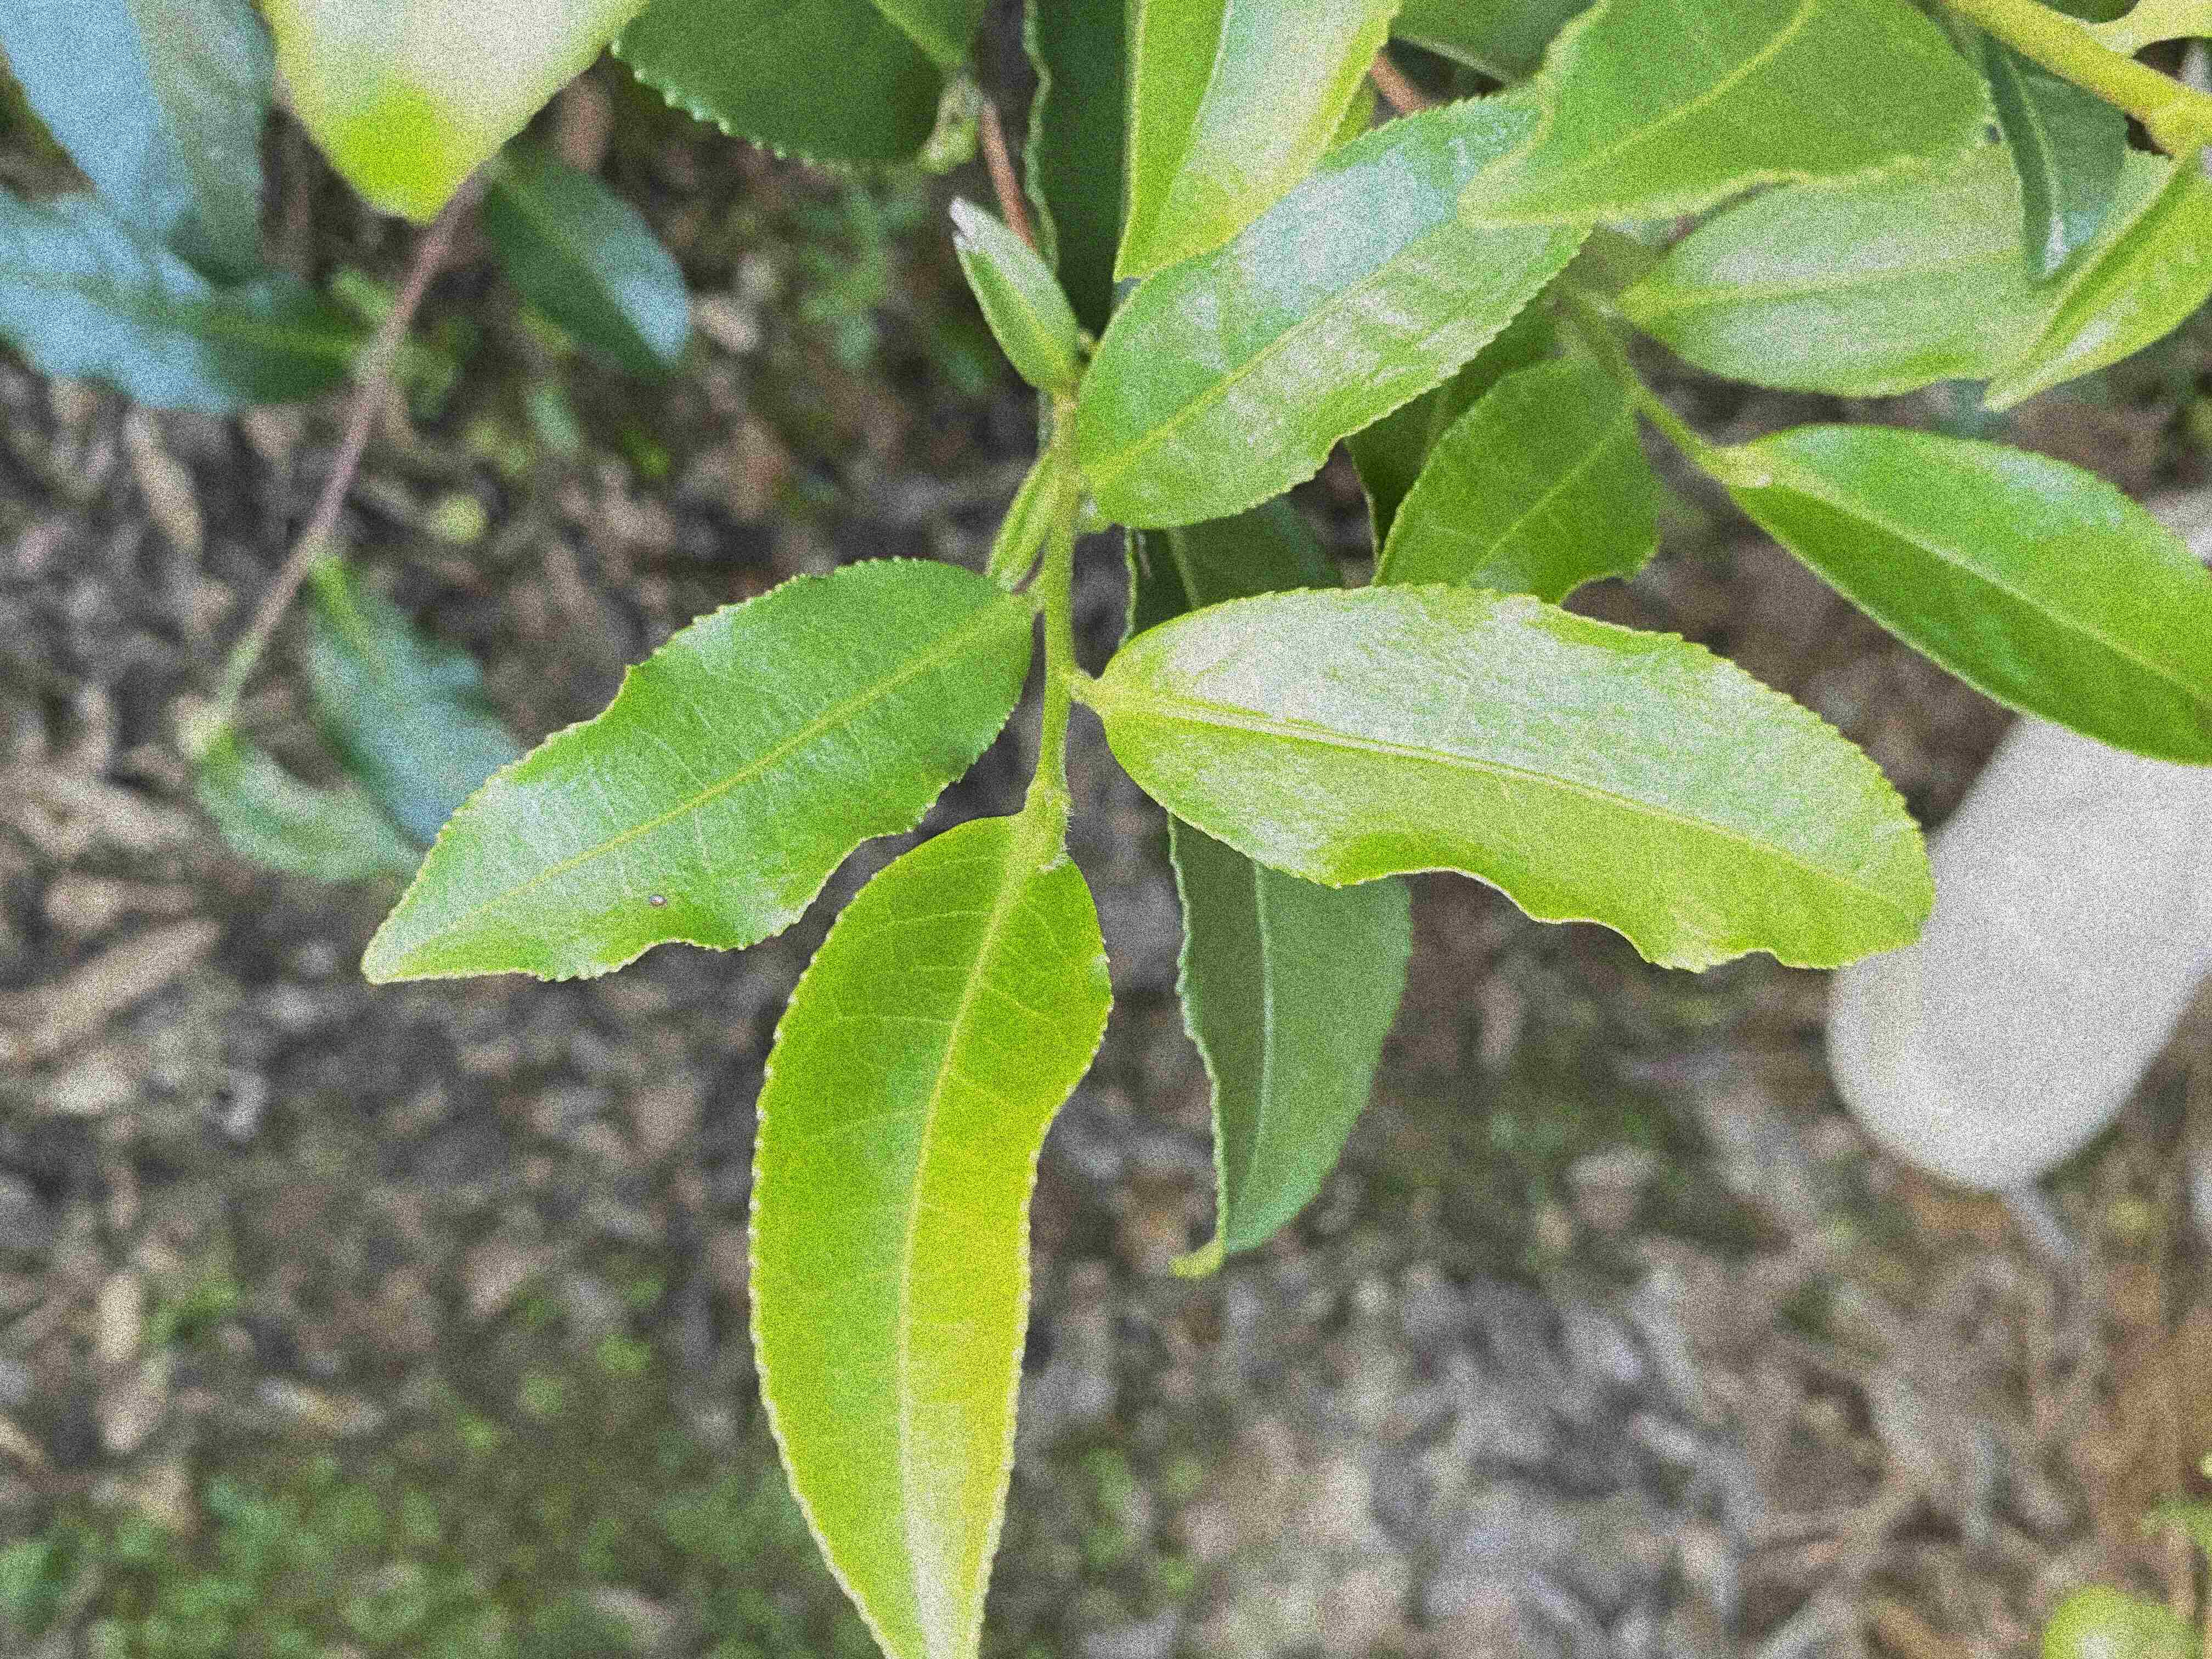healthy: (1097, 579, 1939, 978), (745, 810, 1118, 1657), (1071, 87, 1592, 532), (1726, 420, 2212, 772), (1453, 3, 2001, 232), (1108, 0, 1407, 286)
tanju_low: (355, 552, 1035, 988)
